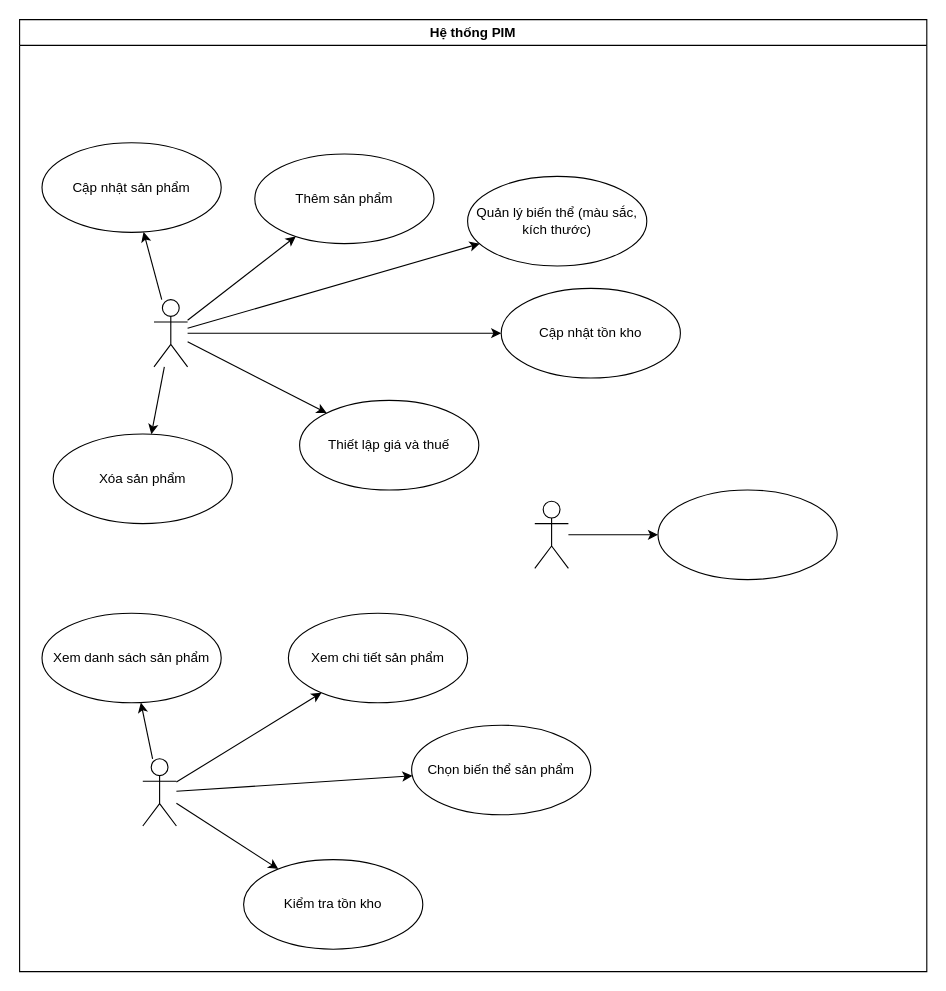
Some shapes in this 946 by 991 pixel diagram are drawn without their labels. Here are the shapes that lost their labels. From the top down, the centre of each, then its label:
At (170,332): "Admin".
At (551,534): "Warehouse Staff".
At (747,534): "Đồng bộ trạng thái kho".
At (159,792): "Customer".
